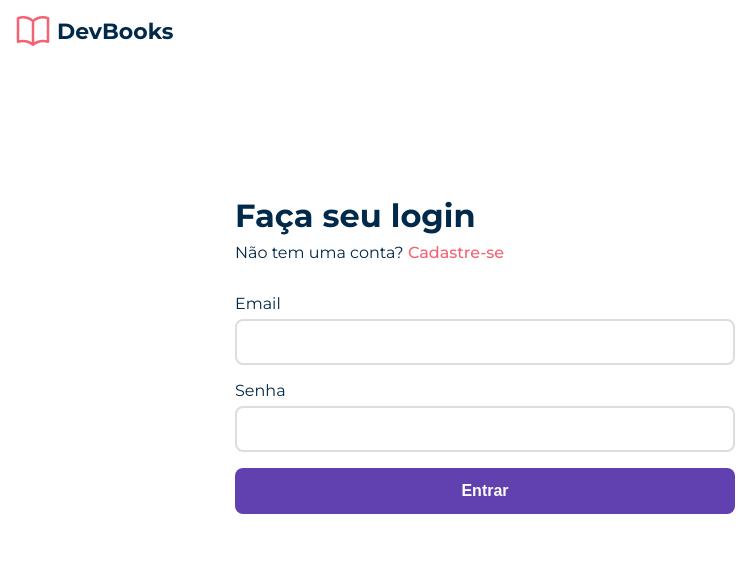
SignIn Component › shows an error message when signIn fails
Type "test@example.com" into the field labelled "Email" at (485, 342), box [235, 319, 735, 365]
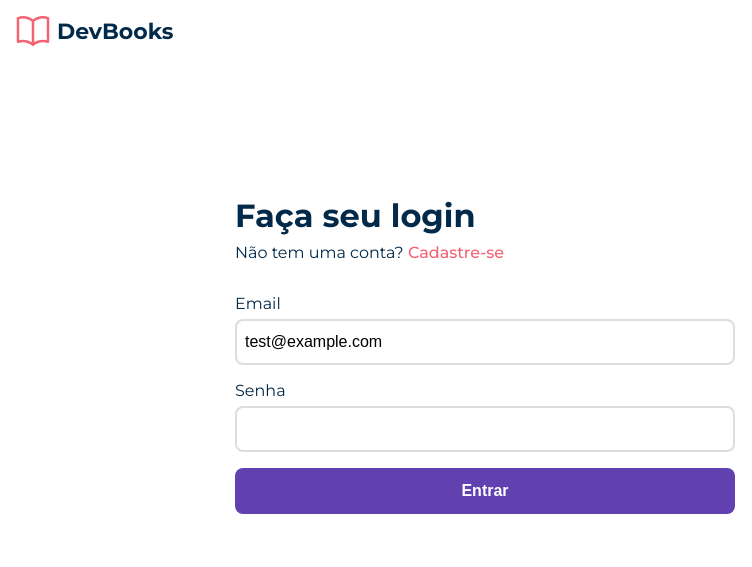
Type "password123" into the password field labelled "Senha" at (485, 429), box [235, 406, 735, 452]
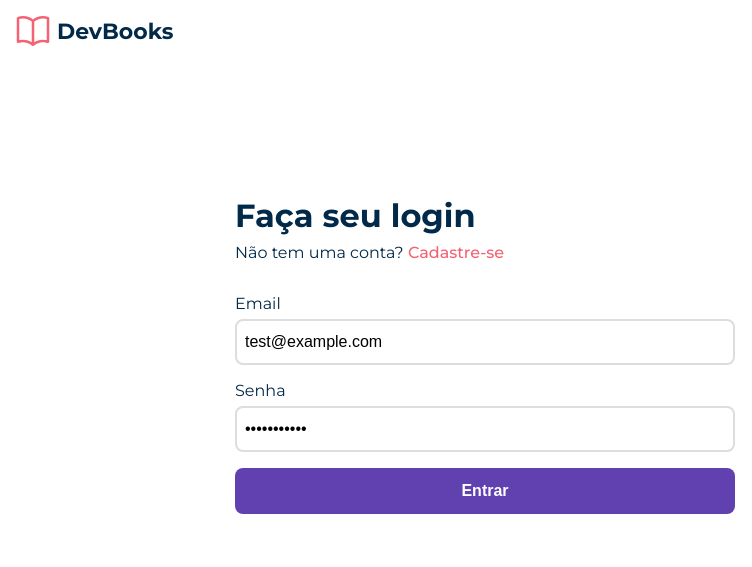
Click the button "Entrar" at (485, 491), box [235, 468, 735, 514]
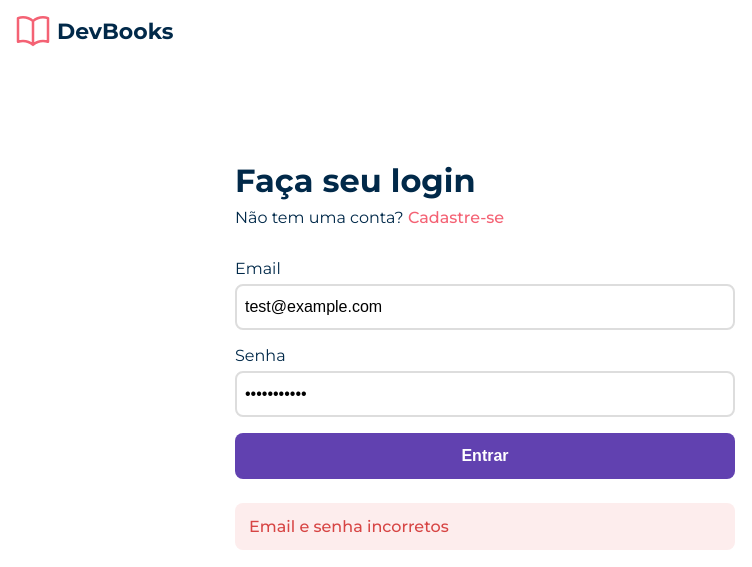
Expected: the text "Email e senha incorretos" is shown, [235, 502, 735, 550]
